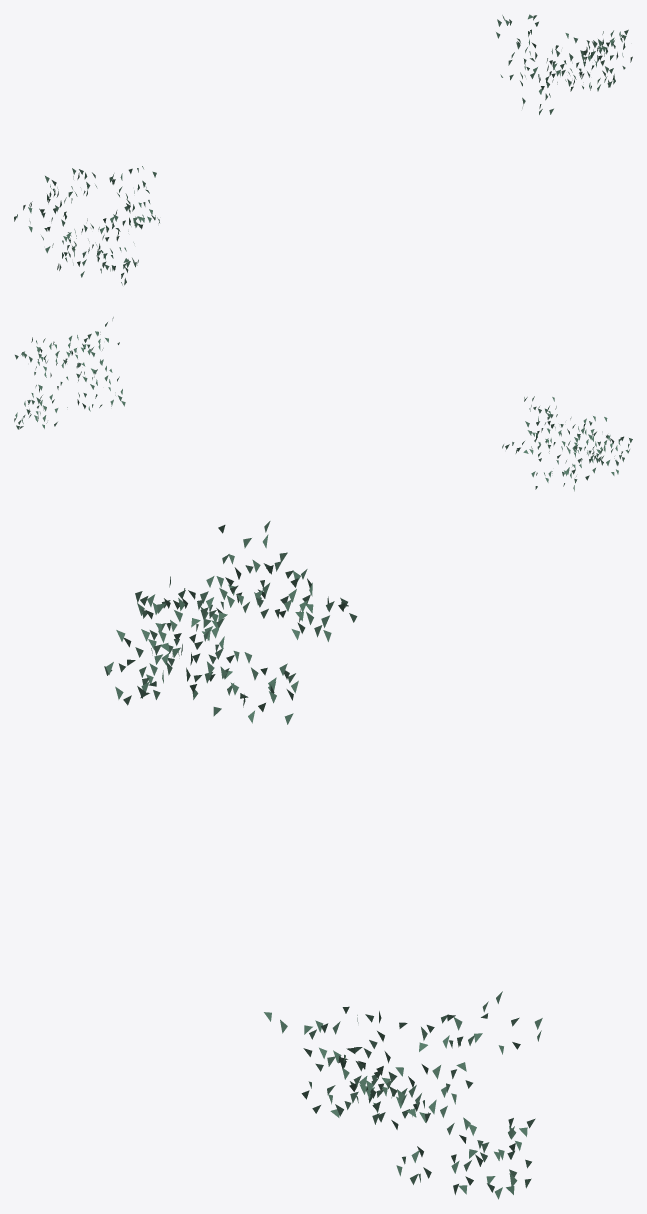
File: xiyuan-vegetation-20-far.glb
3 views of the same model, one above another, from view 1: azimuth 30°, elevation 25°; view 2: azimuth 150°, elevation 25°; view 3: azimuth 270°, elevation 25° (orthographic). The views are drawn at different scales.
Parts seen in each view (by area): view 1: vegetation broadleaf leaves.002; view 2: vegetation broadleaf leaves.002; view 3: vegetation broadleaf leaves.002.
Boxes of the visible parts, x1,y1,x2,y2 form: vegetation broadleaf leaves.002: [14, 14, 632, 285]; vegetation broadleaf leaves.002: [14, 317, 632, 491]; vegetation broadleaf leaves.002: [104, 521, 542, 1199].
Bounding box in the file's own units: 35.49 × 5.42 × 12.16.
